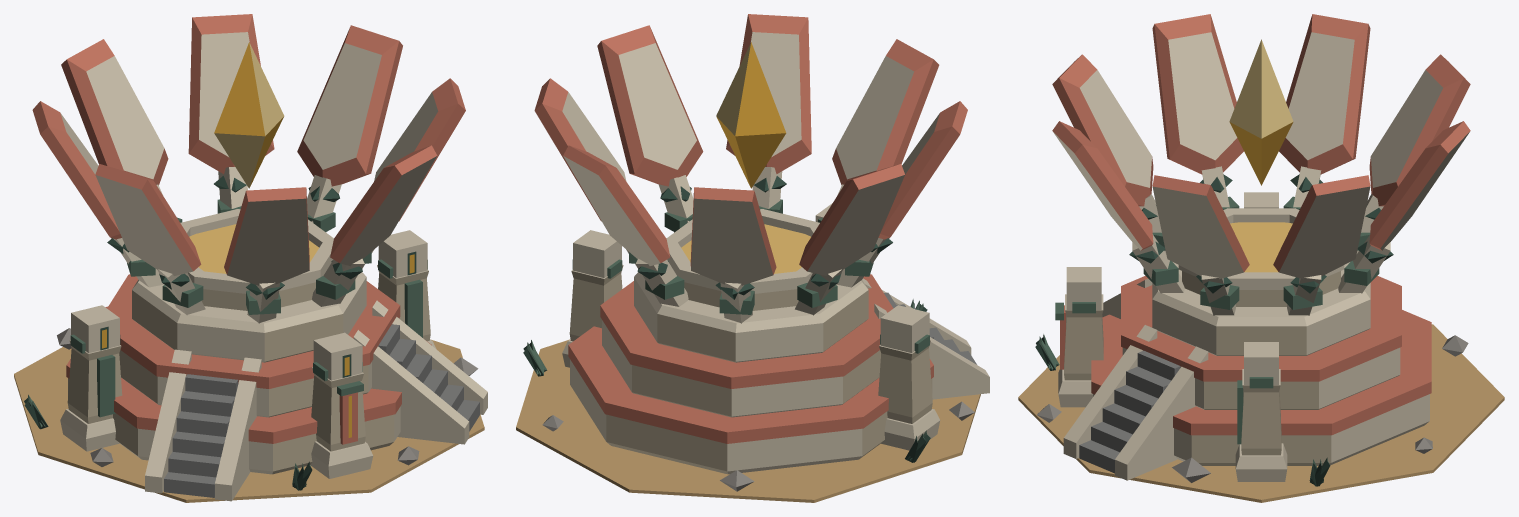
File: core_desert.glb
The picture shows the model from 3 angles, left to right: view 1: azimuth 30°, elevation 25°; view 2: azimuth 150°, elevation 25°; view 3: azimuth 270°, elevation 25°; orthographic projection.
Parts seen in each view (by area): view 1: core_desert; view 2: core_desert; view 3: core_desert.
Part boxes in pixels (x1,y1,x2,y2): core_desert: (14, 14, 487, 502); core_desert: (516, 14, 989, 502); core_desert: (1018, 14, 1504, 502).
Size of the model in its own units: 1.44 by 1.18 by 1.44.
